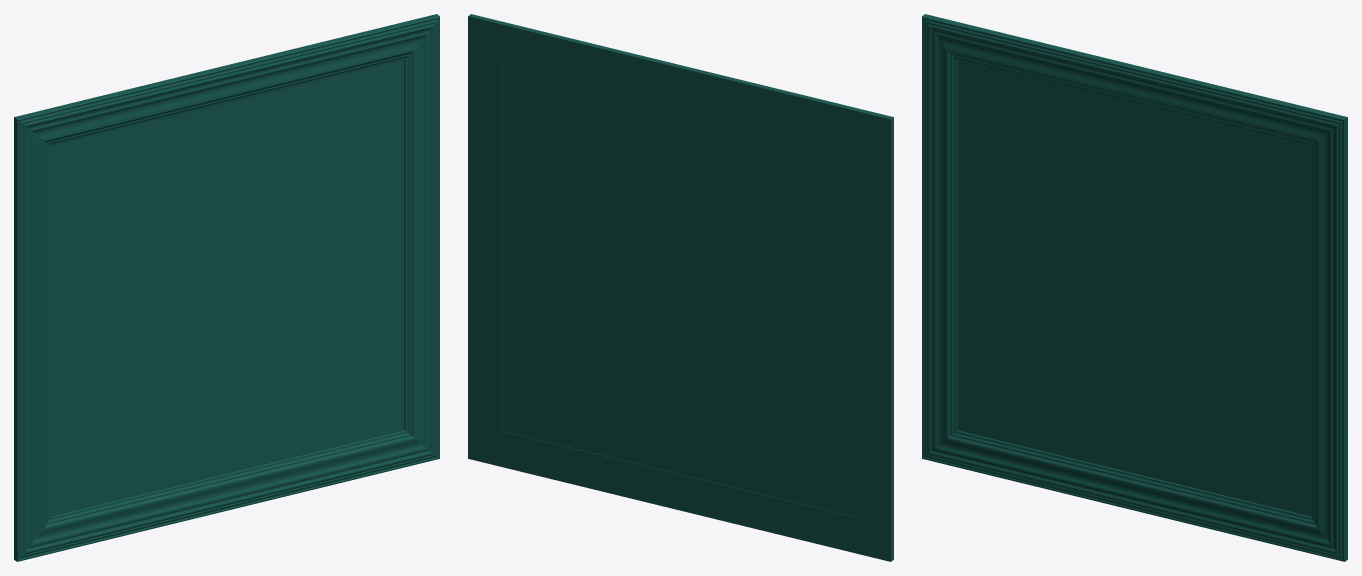
3 views of the same model, side by side, from view 1: azimuth 30°, elevation 25°; view 2: azimuth 150°, elevation 25°; view 3: azimuth 330°, elevation 25° (orthographic).
Visible parts, largest first — view 1: Frame_1; view 2: Frame_1; view 3: Frame_1.
Boxes of the visible parts, x1,y1,x2,y2 form: Frame_1: (14,14,439,561); Frame_1: (468,14,893,561); Frame_1: (922,14,1347,561).
Size of the model in its own units: 2 by 2 by 0.036.
